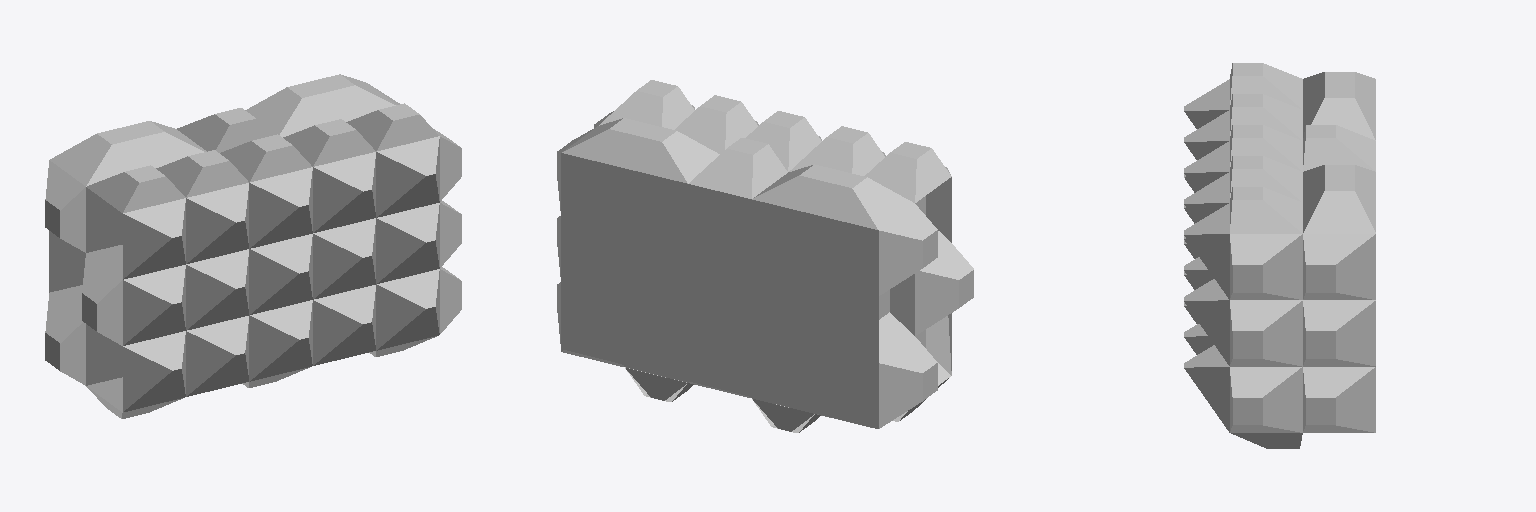
The picture shows the model from 3 angles: view 1: azimuth 30°, elevation 25°; view 2: azimuth 150°, elevation 25°; view 3: azimuth 270°, elevation 25°; orthographic projection.
Visible parts, largest first — view 1: GenericCeiling_80, GenericInteriorWall_50, ASHRAE_ZONE3B_32; view 2: GenericFloor_20, GenericInteriorWall_50, ASHRAE_ZONE3B_32, GenericCeiling_80; view 3: GenericInteriorWall_50, GenericCeiling_80, ASHRAE_ZONE3B_32.
Part boxes in pixels (left/top/right/bottom): GenericCeiling_80: left=123, top=136, right=439, bottom=411; GenericInteriorWall_50: left=45, top=74, right=461, bottom=418; ASHRAE_ZONE3B_32: left=46, top=75, right=434, bottom=369; GenericFloor_20: left=561, top=153, right=878, bottom=428; GenericInteriorWall_50: left=557, top=80, right=973, bottom=432; ASHRAE_ZONE3B_32: left=611, top=80, right=973, bottom=432; GenericCeiling_80: left=692, top=105, right=951, bottom=375; GenericInteriorWall_50: left=1230, top=63, right=1375, bottom=448; GenericCeiling_80: left=1184, top=79, right=1229, bottom=432; ASHRAE_ZONE3B_32: left=1184, top=63, right=1353, bottom=424.
Size of the model in its own units: 37.55 by 24.51 by 17.12.